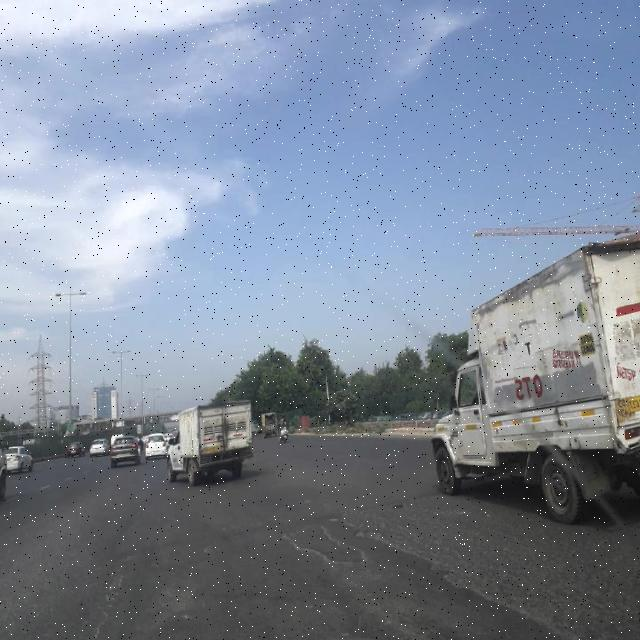D00: (92, 522, 142, 631)
D20: (346, 499, 636, 629)
D40: (354, 522, 386, 545)
